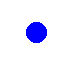circle: (26, 22, 46, 42)
